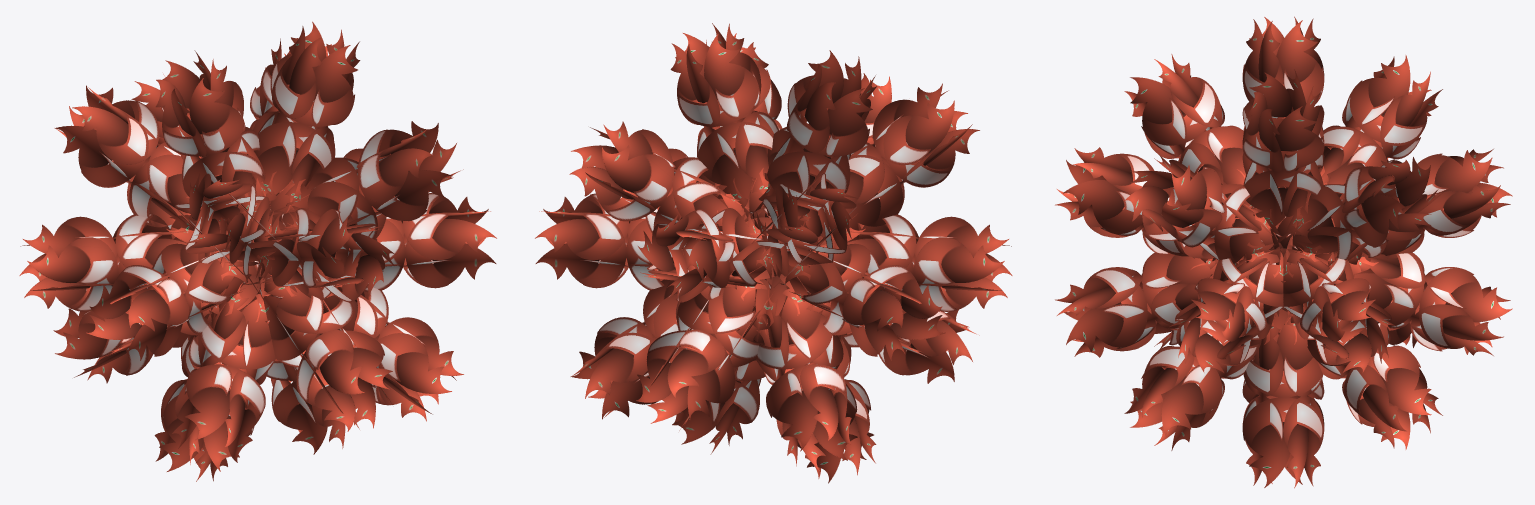
The model's file is StarGreatDodecahemicosacron31.gltf.
The picture shows the model from 3 angles, left to right: view 1: azimuth 30°, elevation 25°; view 2: azimuth 150°, elevation 25°; view 3: azimuth 270°, elevation 25°; orthographic projection.
Parts seen in each view (by area): view 1: StarGreatDodecahemicosacron; view 2: StarGreatDodecahemicosacron; view 3: StarGreatDodecahemicosacron.
Part boxes in pixels (left/top/right/bottom): StarGreatDodecahemicosacron: left=19, top=21, right=496, bottom=481; StarGreatDodecahemicosacron: left=535, top=23, right=1012, bottom=483; StarGreatDodecahemicosacron: left=1055, top=16, right=1512, bottom=488.
Size of the model in its own units: 10.06 by 10.06 by 10.06.
1 material, 1 textured.
